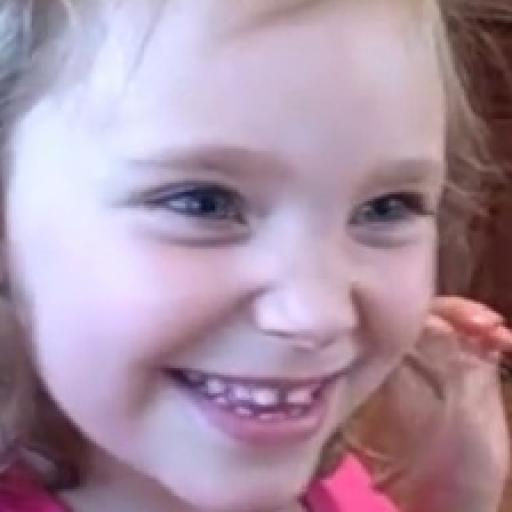Autism: (6, 0, 496, 512)
